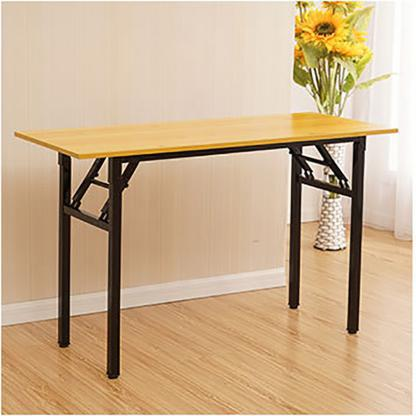table: (10, 108, 403, 382)
